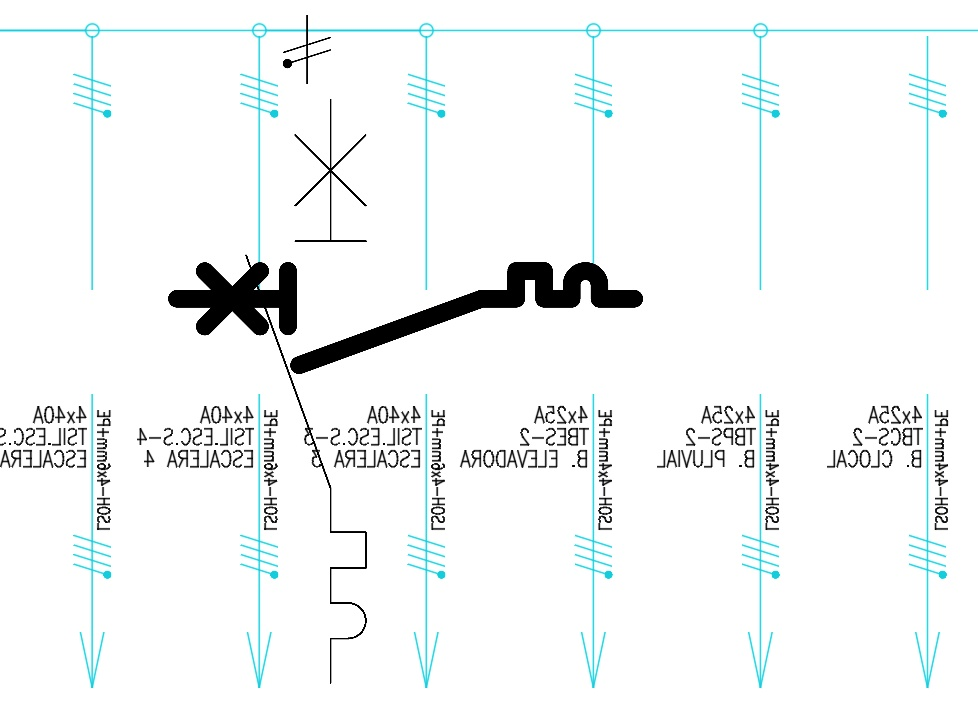interruptor_termomagnetico: (231, 84, 381, 697), (165, 259, 646, 376)
